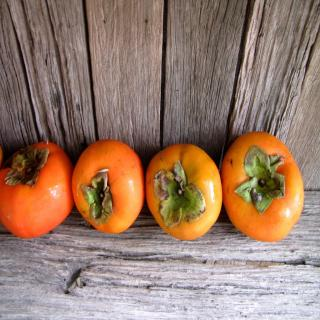tomato: (220, 130, 305, 242), (144, 143, 226, 239), (0, 137, 74, 240), (69, 136, 147, 233)
